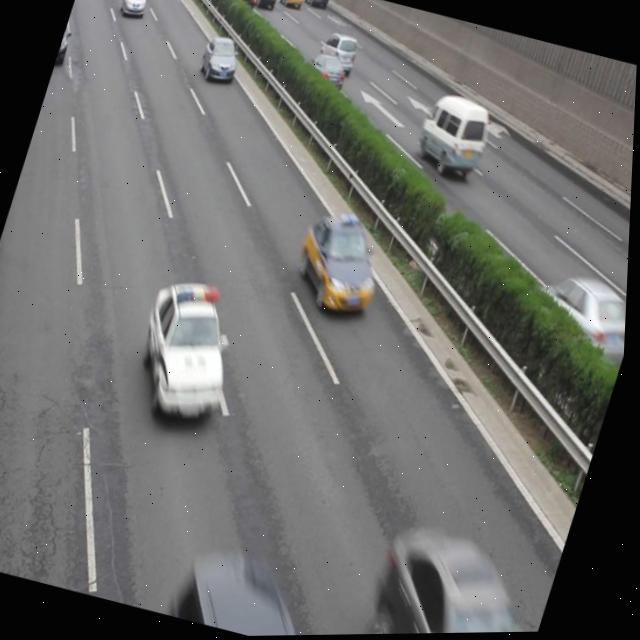car: (364, 518, 553, 636), (123, 270, 256, 434), (287, 205, 395, 326), (525, 265, 631, 361), (195, 31, 246, 89), (301, 48, 350, 96), (316, 28, 361, 76), (54, 17, 77, 69)
truck: (408, 89, 499, 182)
